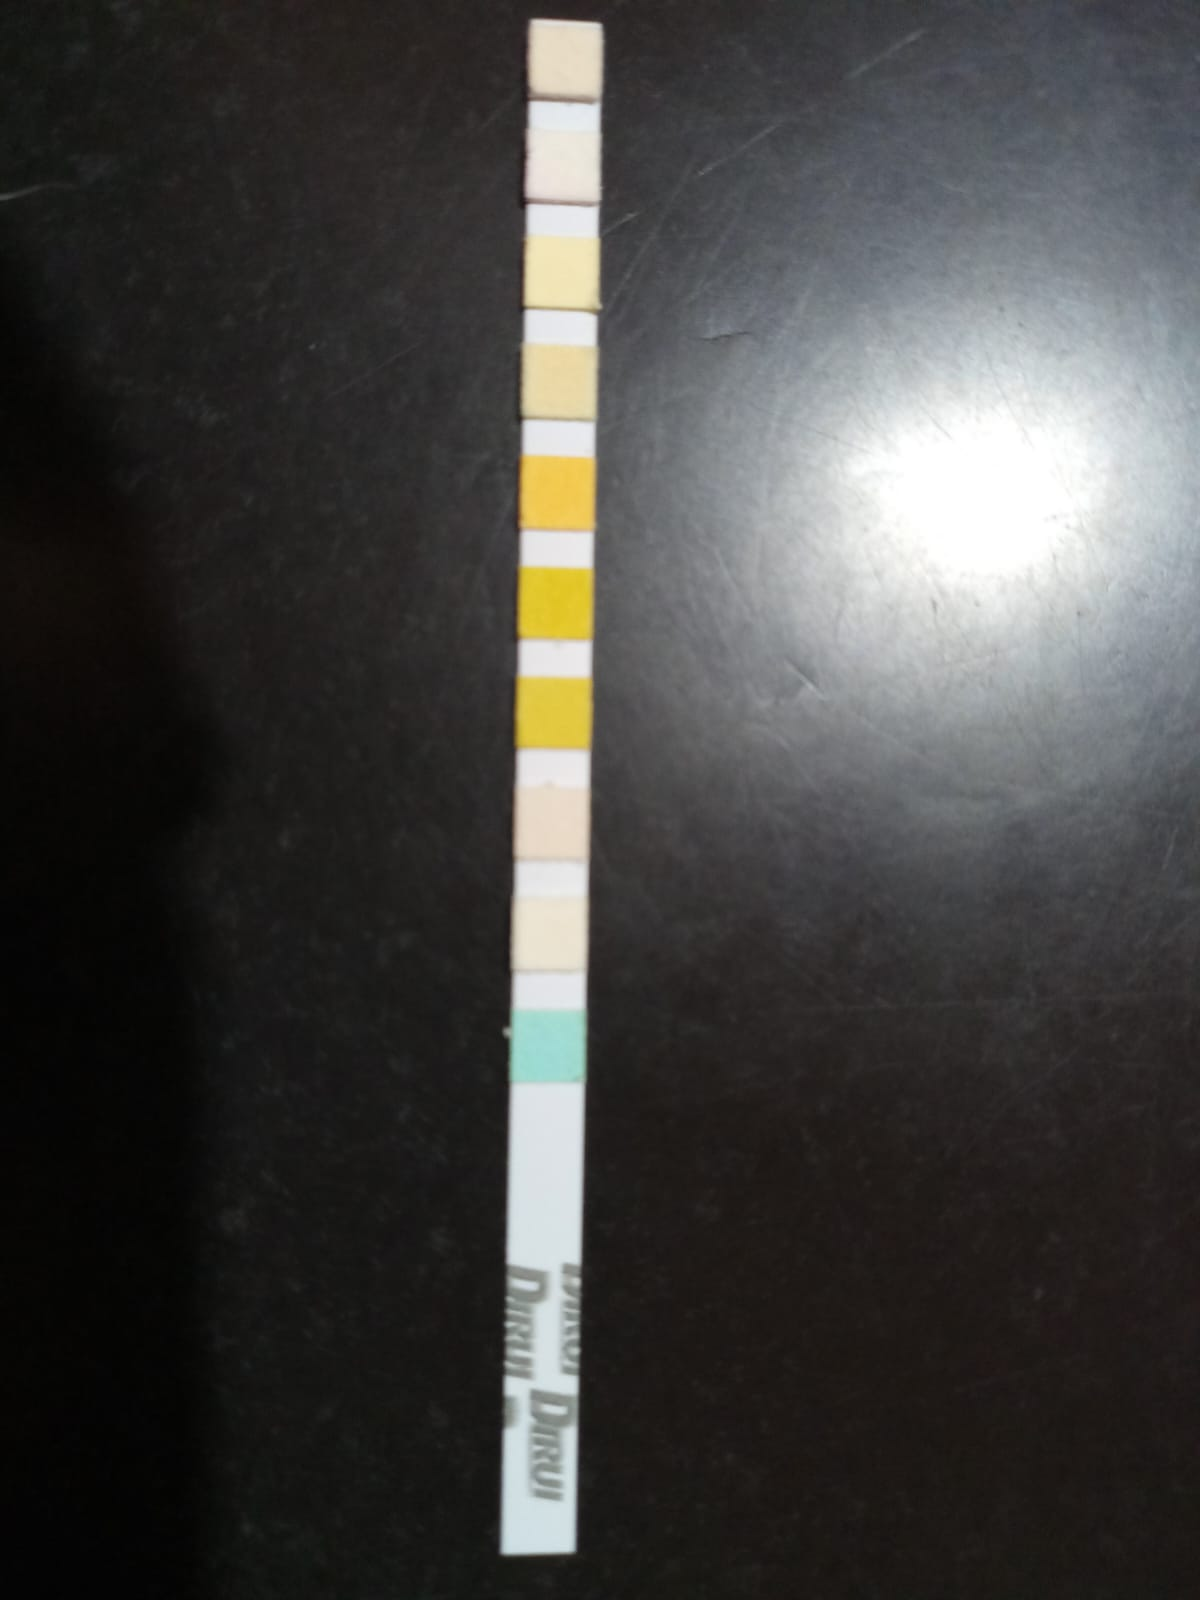color 1: (531, 26, 597, 94)
color 10: (513, 1013, 581, 1078)
color 2: (528, 132, 594, 197)
color 3: (528, 239, 595, 305)
color 4: (523, 346, 594, 414)
color 5: (523, 459, 591, 527)
color 6: (521, 569, 590, 637)
color 7: (521, 682, 589, 746)
color 8: (518, 789, 586, 853)
color 9: (514, 902, 585, 965)
